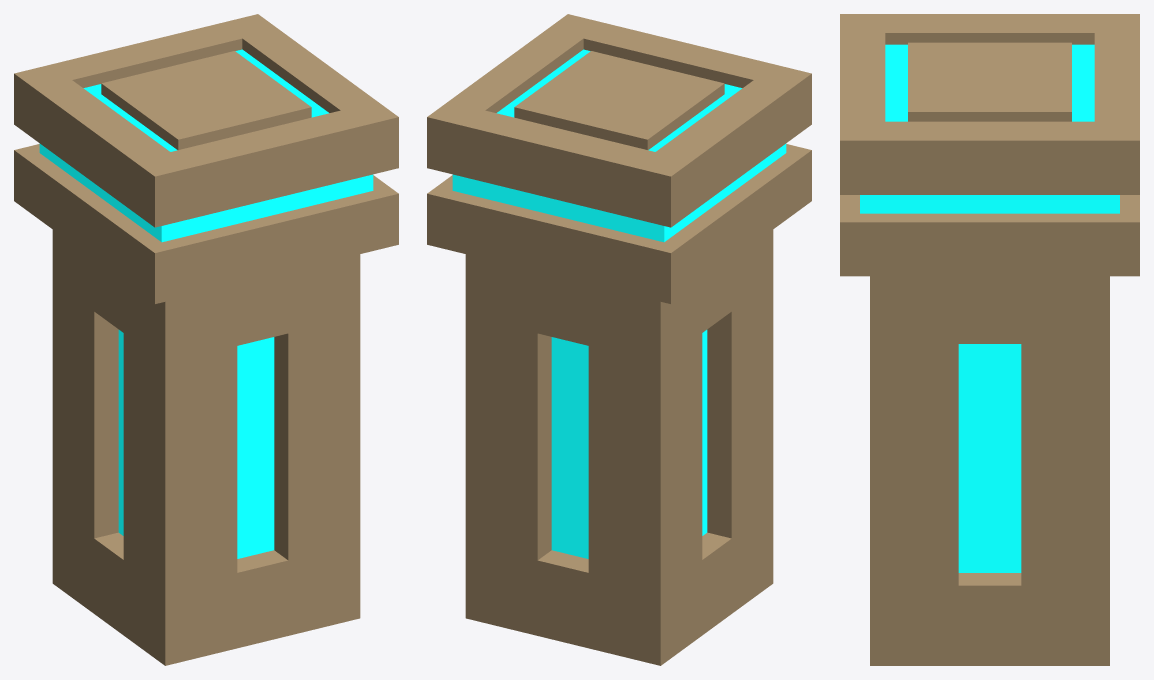
The model's file is Plinth.fbx.
3 views of the same model, side by side, from view 1: azimuth 30°, elevation 25°; view 2: azimuth 150°, elevation 25°; view 3: azimuth 270°, elevation 25° (orthographic). The views are drawn at different scales.
Parts seen in each view (by area): view 1: Cube.001; view 2: Cube.001; view 3: Cube.001.
Part boxes in pixels (box(x1,y1,x2,y2)): Cube.001: box(14, 14, 398, 665); Cube.001: box(427, 14, 811, 665); Cube.001: box(840, 14, 1139, 665).
Bounding box in the file's own units: 200 × 396 × 200.
